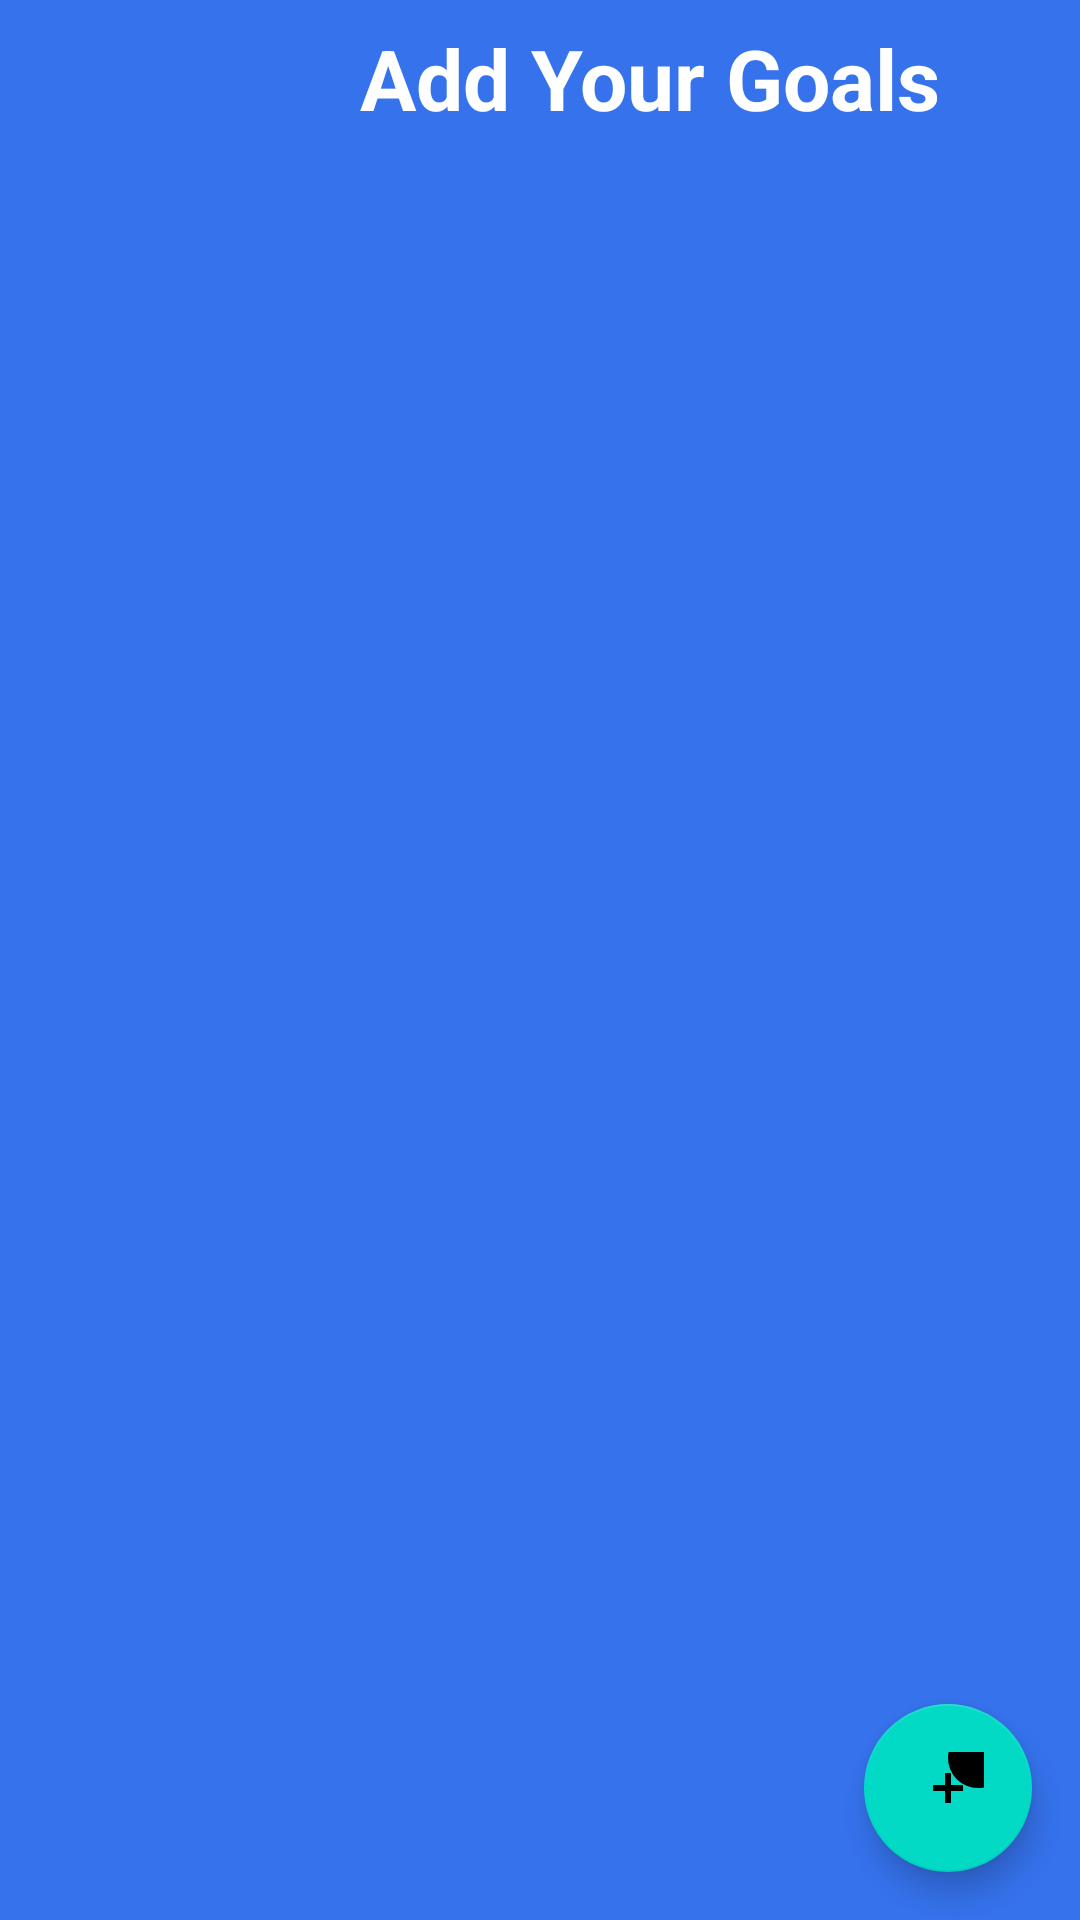

Where to tap for icons on this 1080x1920 app screen, as [x,y]:
Add Goal: [948,1788]
